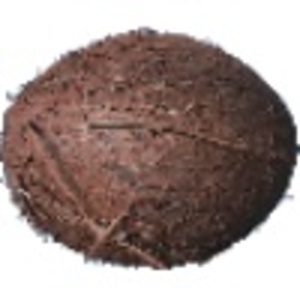coco: (1, 27, 300, 271)
